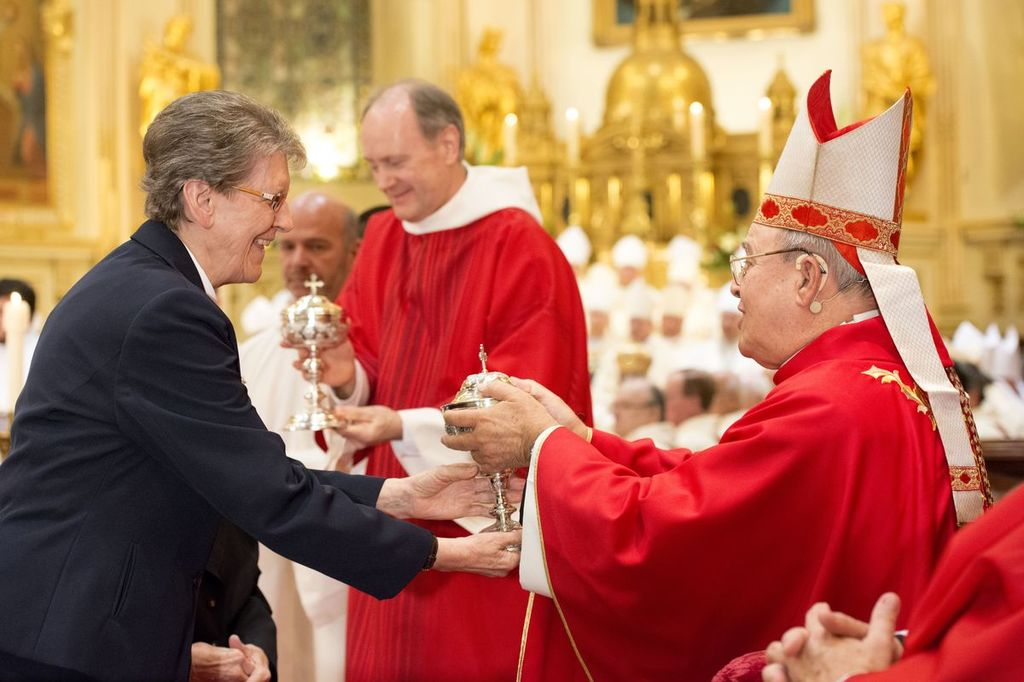face: (274, 210, 352, 297)
